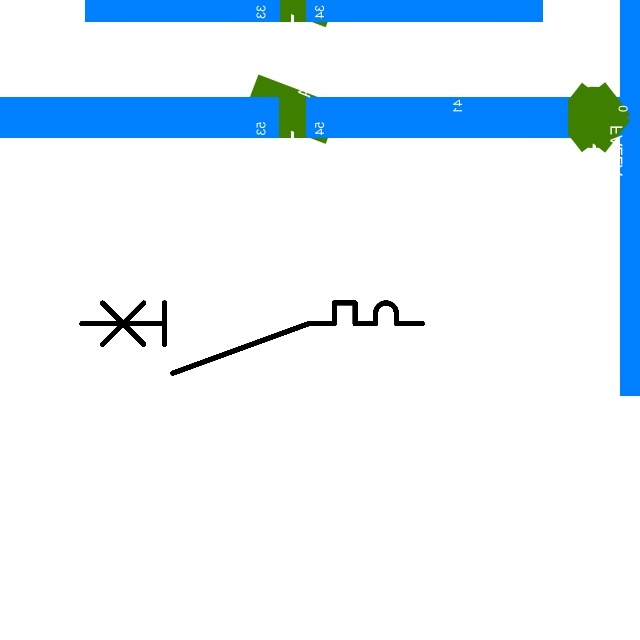interruptor_termomagnetico: (73, 294, 431, 381)
